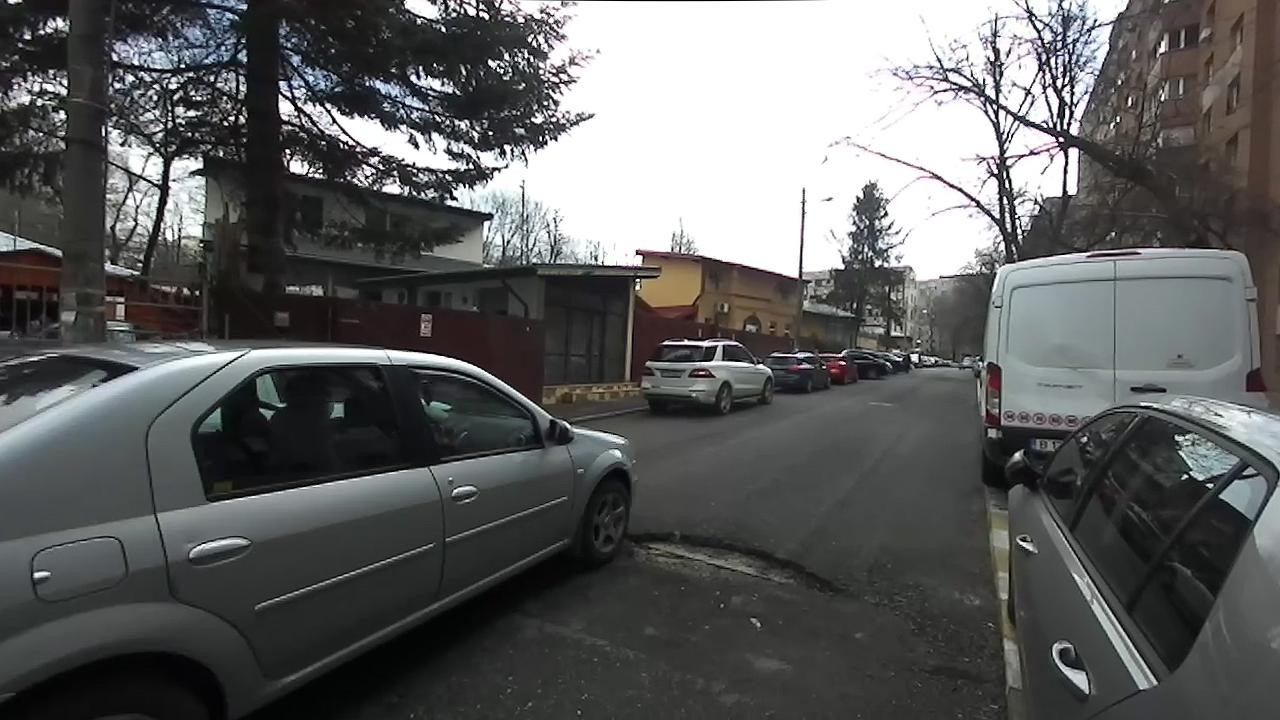pothole: (627, 527, 854, 599)
